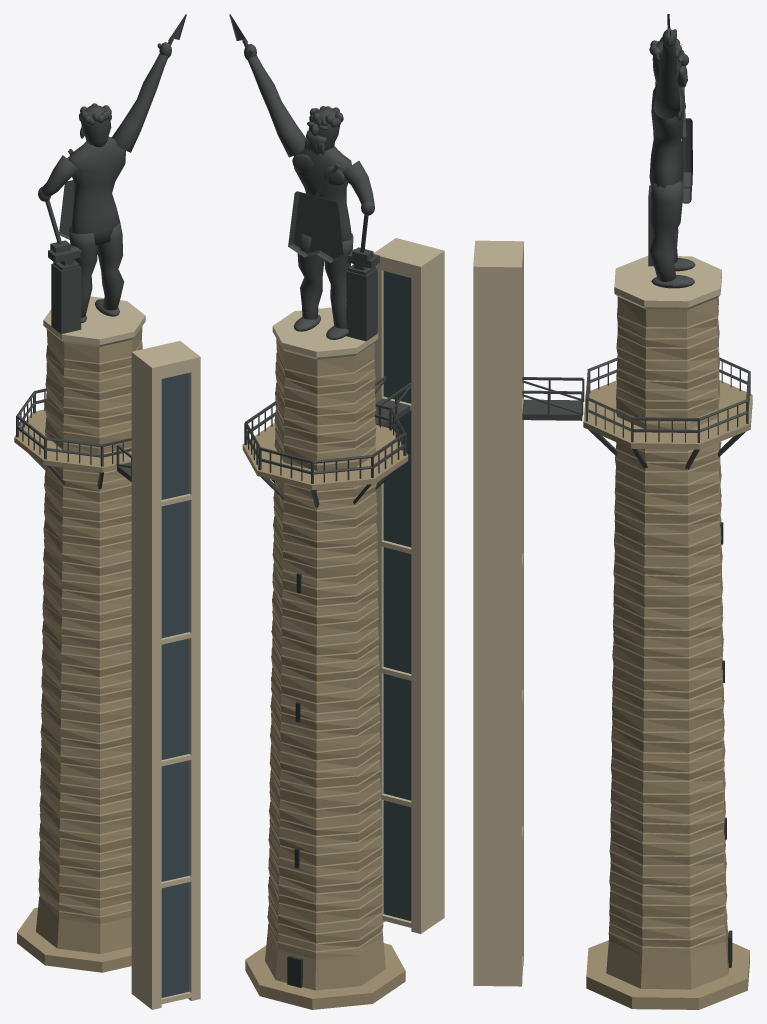
File: vulcan-statue-near.glb
3 views of the same model, side by side, from view 1: azimuth 30°, elevation 25°; view 2: azimuth 150°, elevation 25°; view 3: azimuth 270°, elevation 25° (orthographic). The views are drawn at different scales.
Visible parts, largest first — view 1: vulcan-statue-0-stone, vulcan-statue-0-trim, vulcan-statue-0-glass, vulcan-statue-0-iron; view 2: vulcan-statue-0-stone, vulcan-statue-0-trim, vulcan-statue-0-iron, vulcan-statue-0-glass, vulcan-statue-0-recess; view 3: vulcan-statue-0-stone, vulcan-statue-0-trim, vulcan-statue-0-iron.
Boxes of the visible parts, <box> form: vulcan-statue-0-stone: <box>14,326,142,972</box>; vulcan-statue-0-trim: <box>43,296,200,1009</box>; vulcan-statue-0-glass: <box>161,373,189,997</box>; vulcan-statue-0-iron: <box>16,14,186,489</box>; vulcan-statue-0-stone: <box>242,339,408,1009</box>; vulcan-statue-0-trim: <box>272,238,444,933</box>; vulcan-statue-0-iron: <box>229,14,411,507</box>; vulcan-statue-0-glass: <box>383,271,411,920</box>; vulcan-statue-0-recess: <box>287,573,302,987</box>; vulcan-statue-0-stone: <box>583,297,752,1009</box>; vulcan-statue-0-trim: <box>473,240,721,986</box>; vulcan-statue-0-iron: <box>522,14,750,469</box>.
Size of the model in its own units: 10.01 by 54.86 by 13.74.
